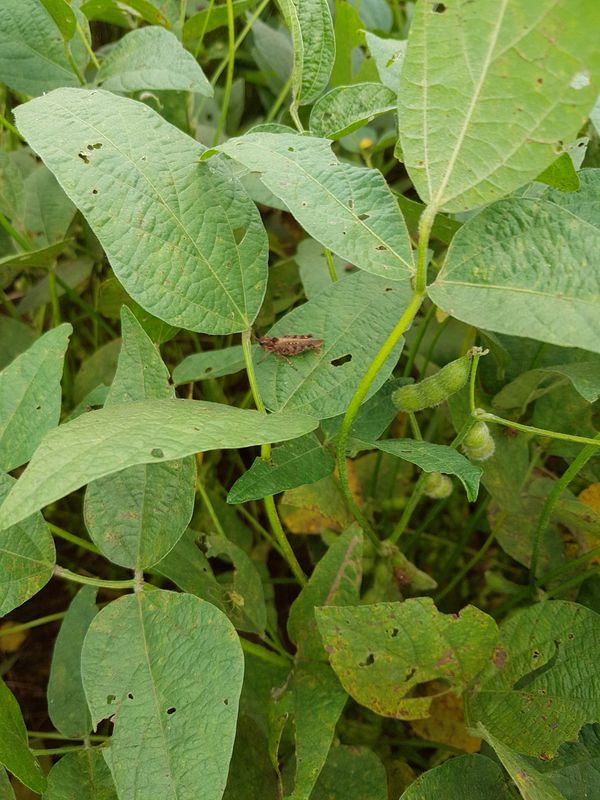Euschistus_heros_adulto: (383, 561, 420, 597)
Rhammatocerus_schistocercoides: (246, 321, 333, 378)
